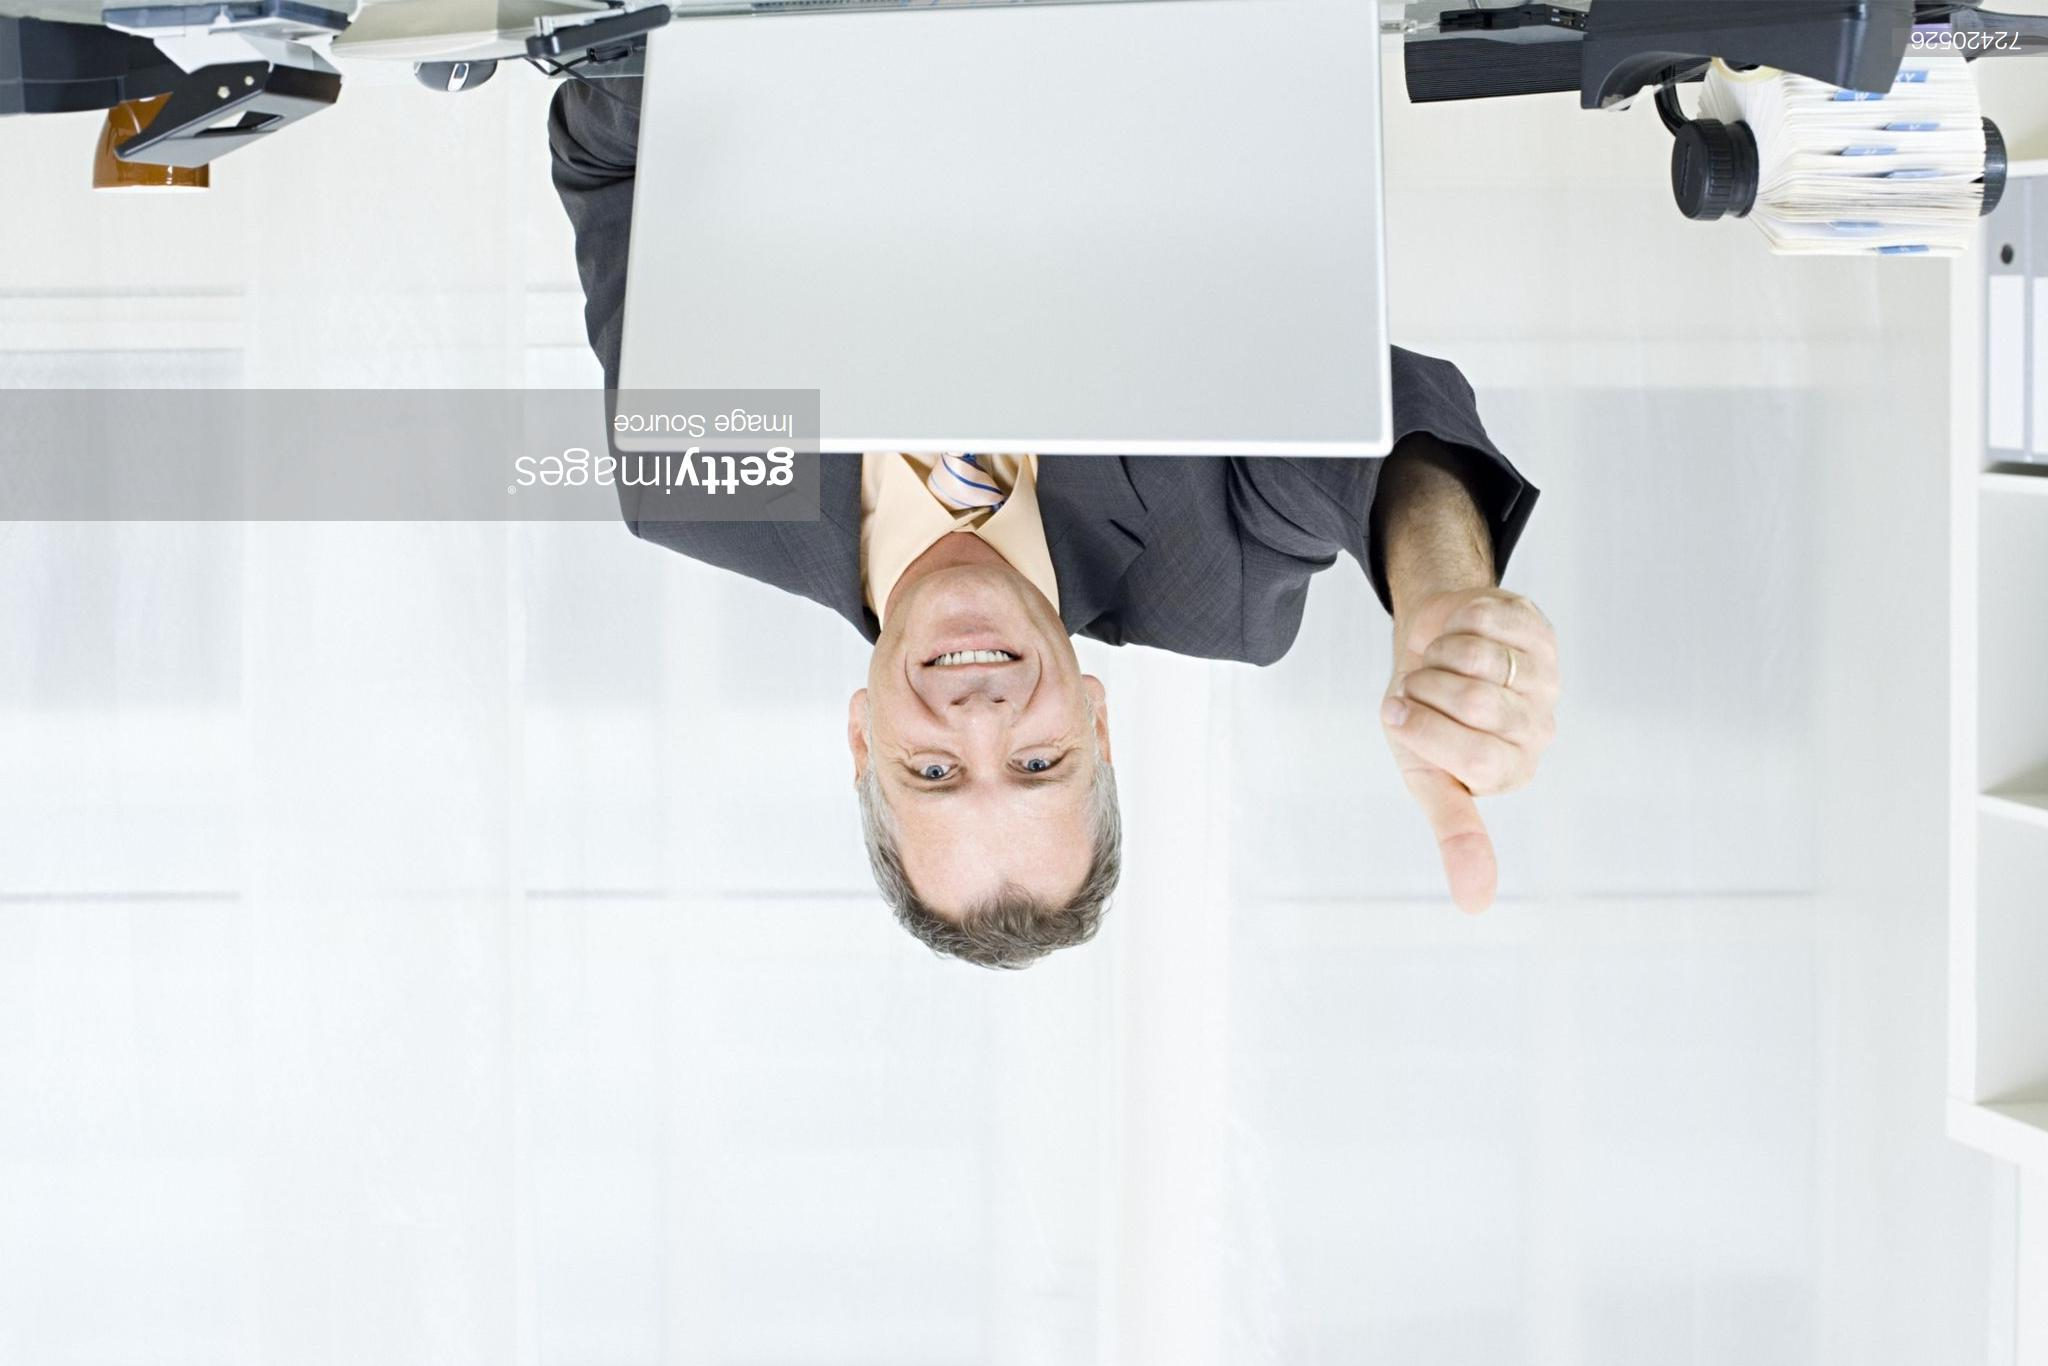thumbsdown: (1381, 592, 1562, 916)
